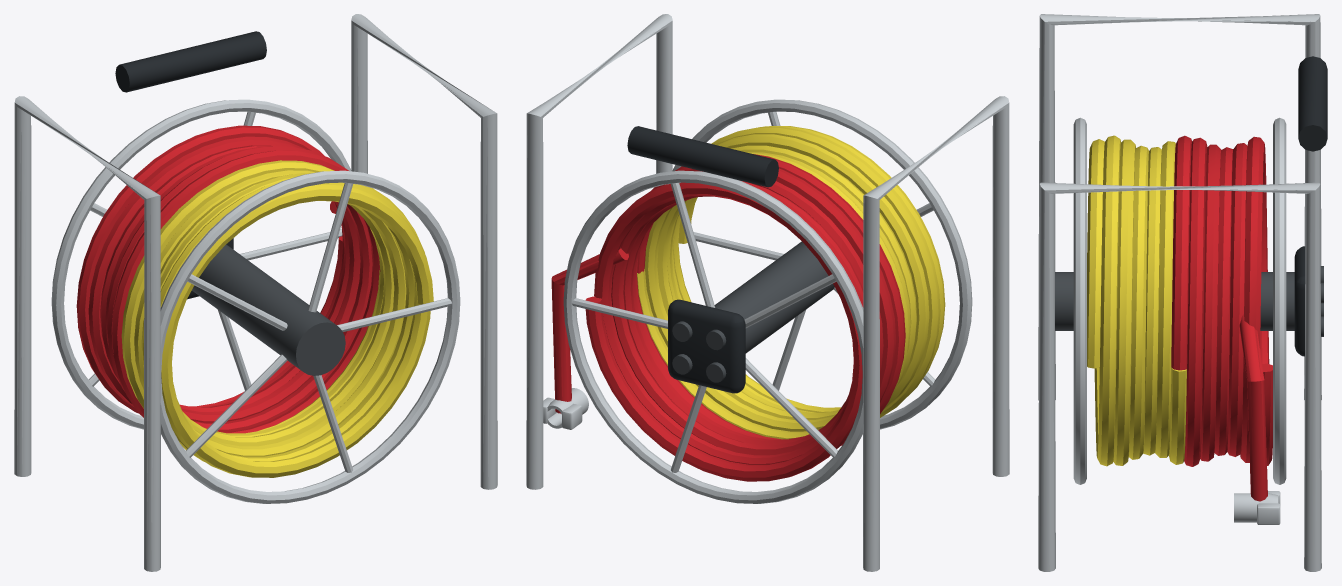
The model's file is hydraulic_hose_pair.glb.
3 renders of one model, left to right at view 1: azimuth 30°, elevation 25°; view 2: azimuth 150°, elevation 25°; view 3: azimuth 270°, elevation 25°, orthographic. The views are drawn at different scales.
Parts seen in each view (by area): view 1: hydraulic_hose_pair; view 2: hydraulic_hose_pair; view 3: hydraulic_hose_pair.
Part boxes in pixels (x1,y1,x2,y2): hydraulic_hose_pair: (14,14,497,571); hydraulic_hose_pair: (526,14,1009,571); hydraulic_hose_pair: (1038,14,1327,571).
Size of the model in its own units: 0.3743 by 0.3828 by 0.2552.
